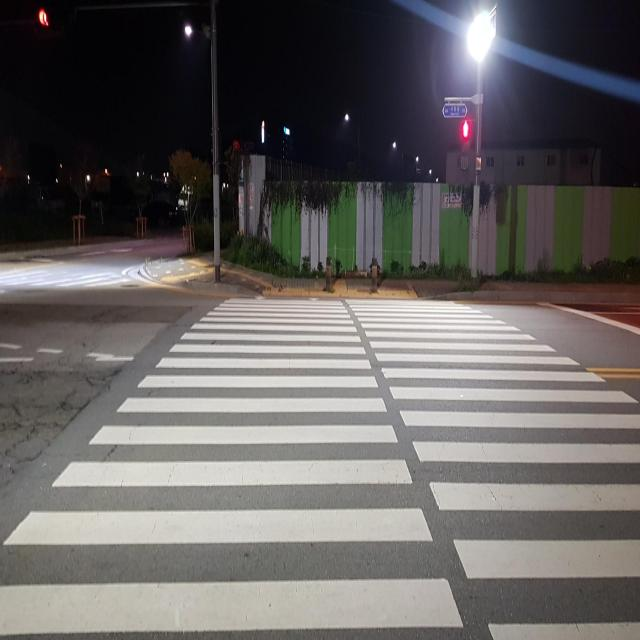빨간불: (458, 120, 475, 172)
횡단보도: (0, 288, 639, 640)
